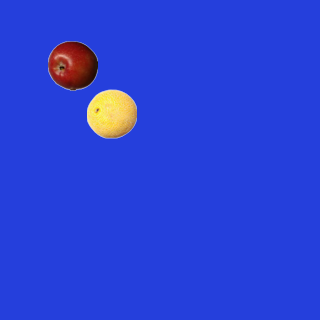Apple Braeburn: (47, 40, 97, 90)
Cantaloupe 1: (86, 88, 136, 138)
